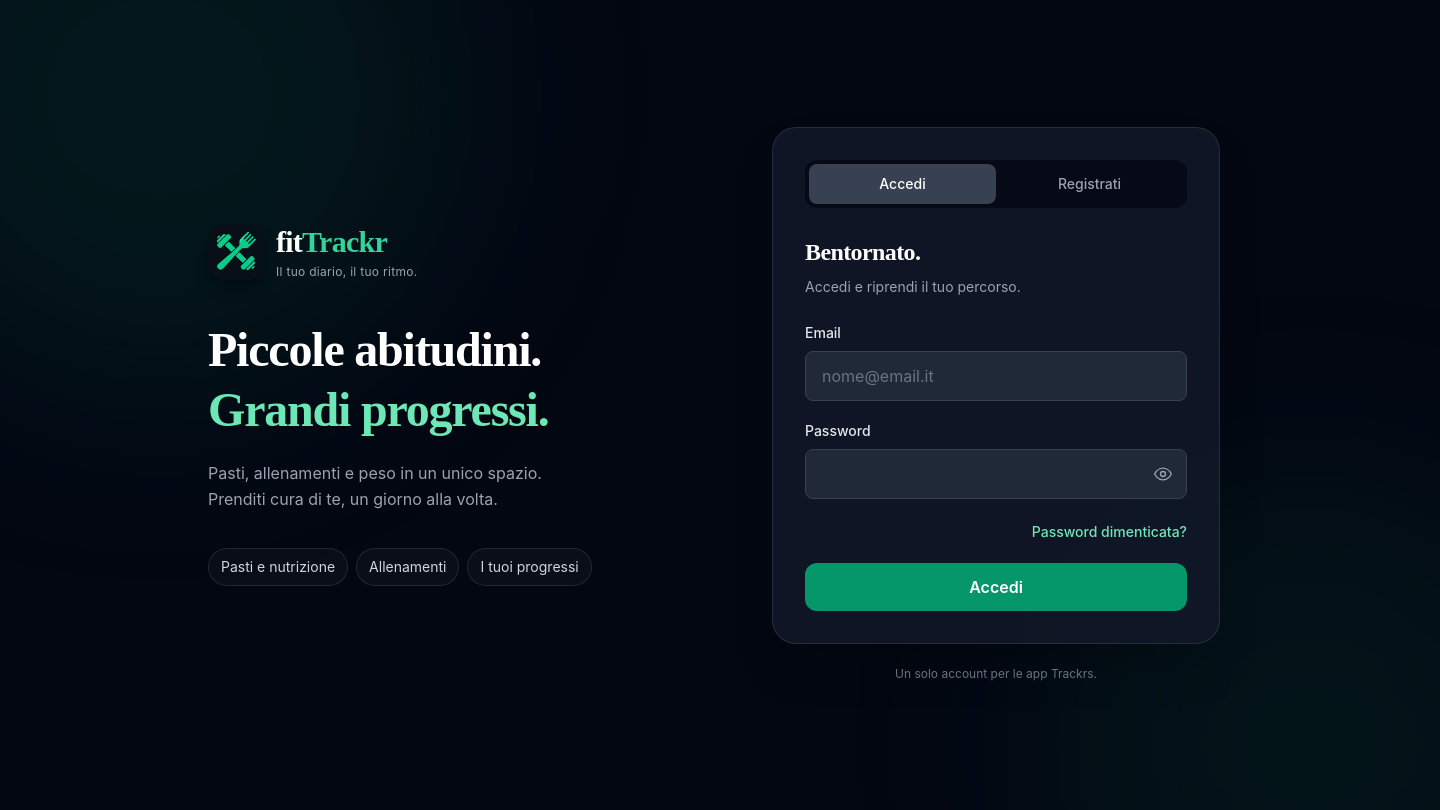
LoginPage › validates invalid email locally and focuses the field
The image size is (1440, 810).
Type " account@example.it " into the field labelled "Email".
click(996, 376); type(" account@example.it ")  # box left=805, top=351, right=1187, bottom=401
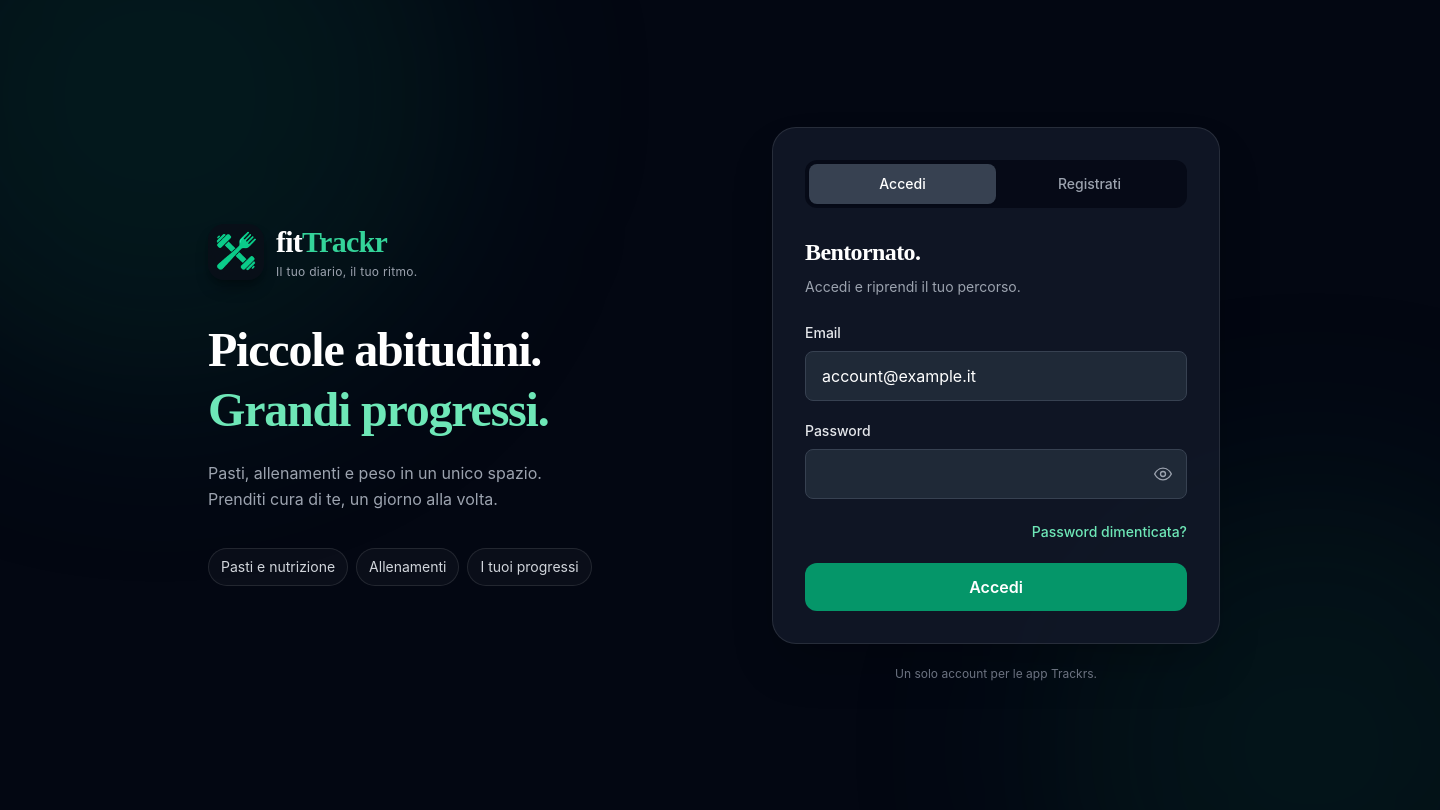
Type "long-passphrase" into the password field labelled "Password".
click(996, 474); type("long-passphrase")  # box left=805, top=449, right=1187, bottom=499
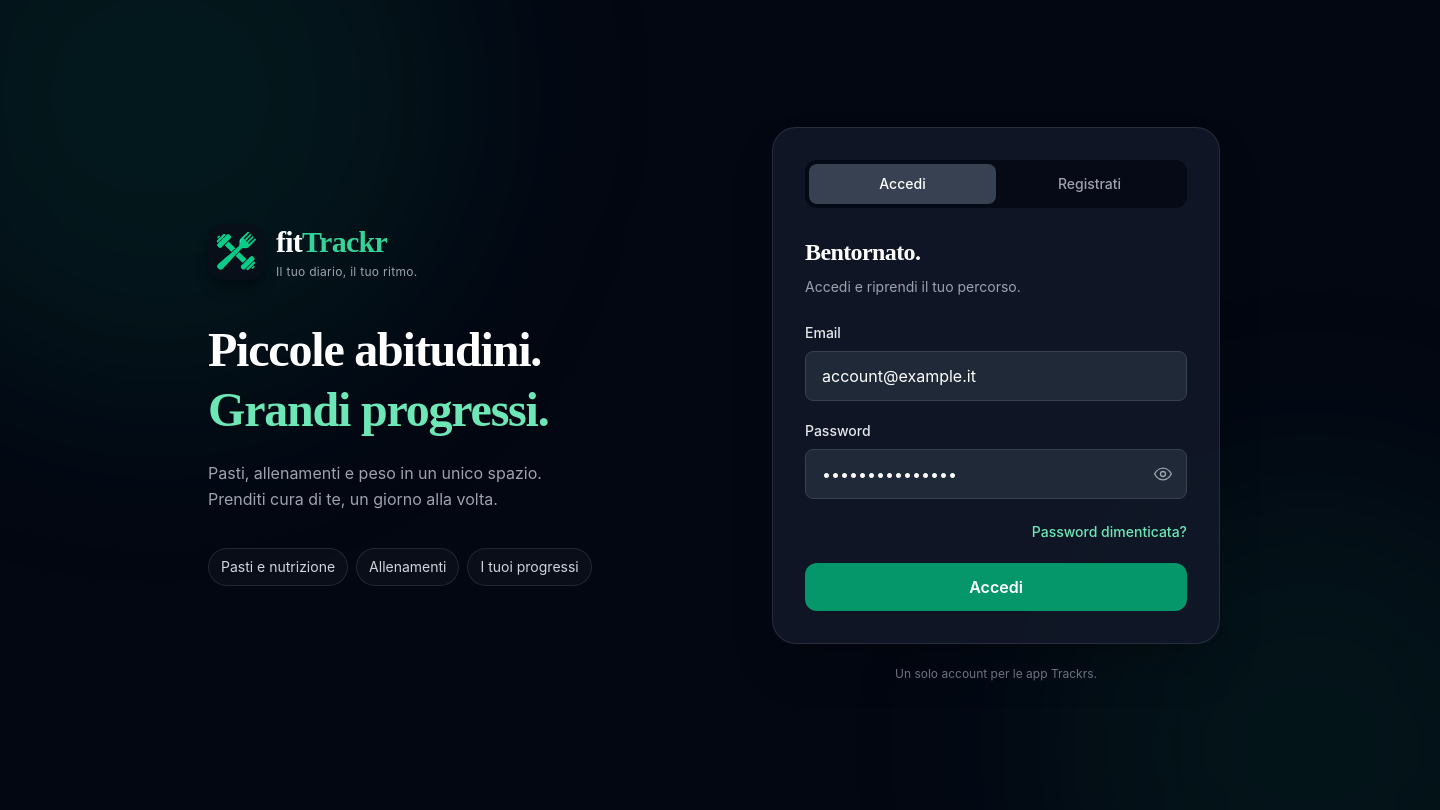
Replace the text in the field labelled "Email" with "invalid" at (996, 376), box left=805, top=351, right=1187, bottom=401
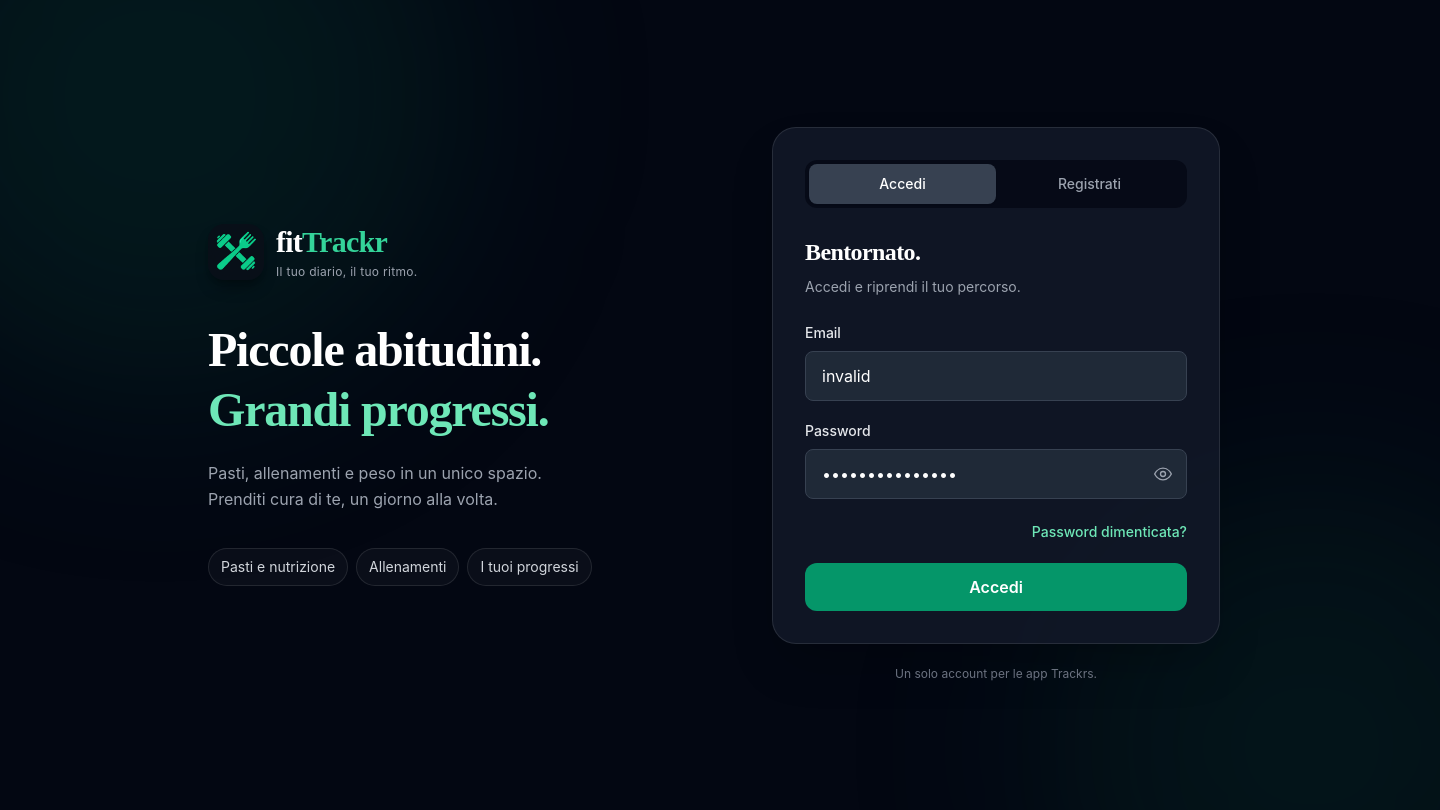
Submit the form labelled "Email", box left=805, top=323, right=1187, bottom=611
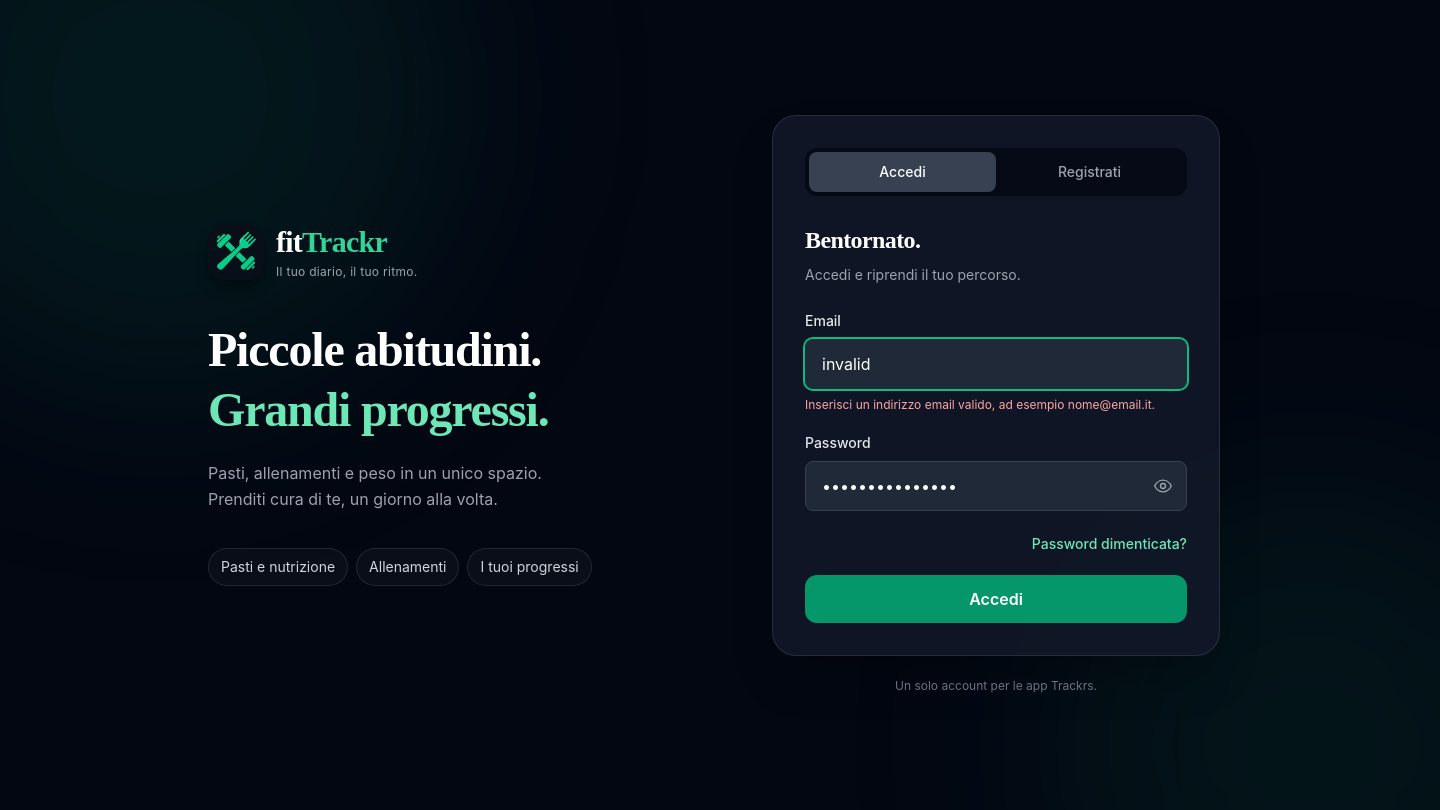
Check: the text "Inserisci un indirizzo email valido" is shown, box left=805, top=397, right=1155, bottom=412
